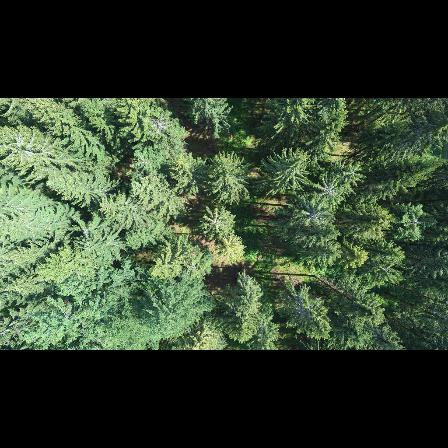Sick: (290, 197, 335, 230), (197, 205, 238, 235), (312, 174, 346, 204), (145, 110, 177, 140)
